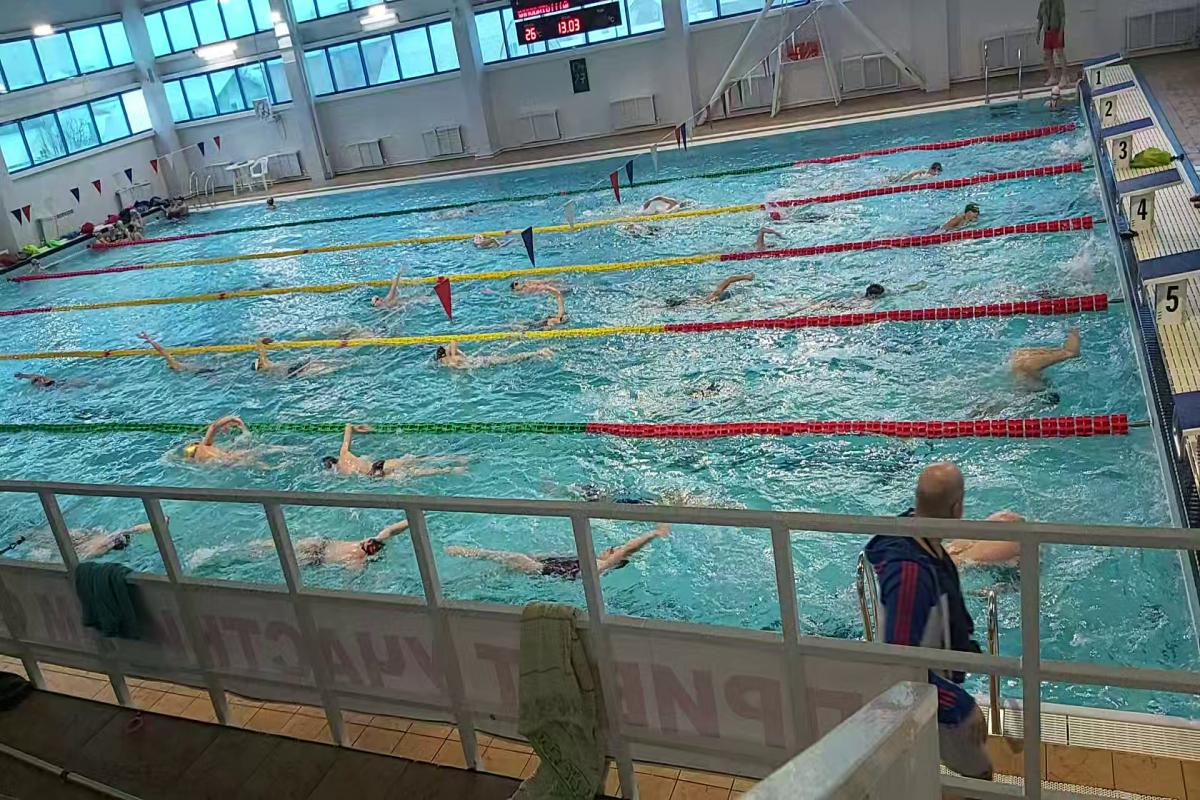swimmer: (464, 534, 654, 582), (230, 529, 410, 575), (970, 502, 1048, 592), (1005, 336, 1082, 408), (254, 346, 366, 389), (426, 342, 552, 376), (27, 522, 151, 556), (646, 278, 754, 315), (180, 434, 279, 473), (306, 450, 422, 478), (358, 283, 448, 316), (808, 281, 901, 312), (14, 368, 102, 400), (502, 276, 584, 305), (150, 344, 229, 373), (898, 156, 957, 188), (918, 203, 989, 227), (499, 307, 574, 329), (637, 194, 709, 216), (748, 222, 798, 248), (464, 226, 514, 249)
